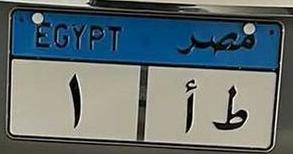1: (64, 75, 84, 127)
Taa: (210, 86, 252, 131)
alif: (179, 79, 202, 132)
